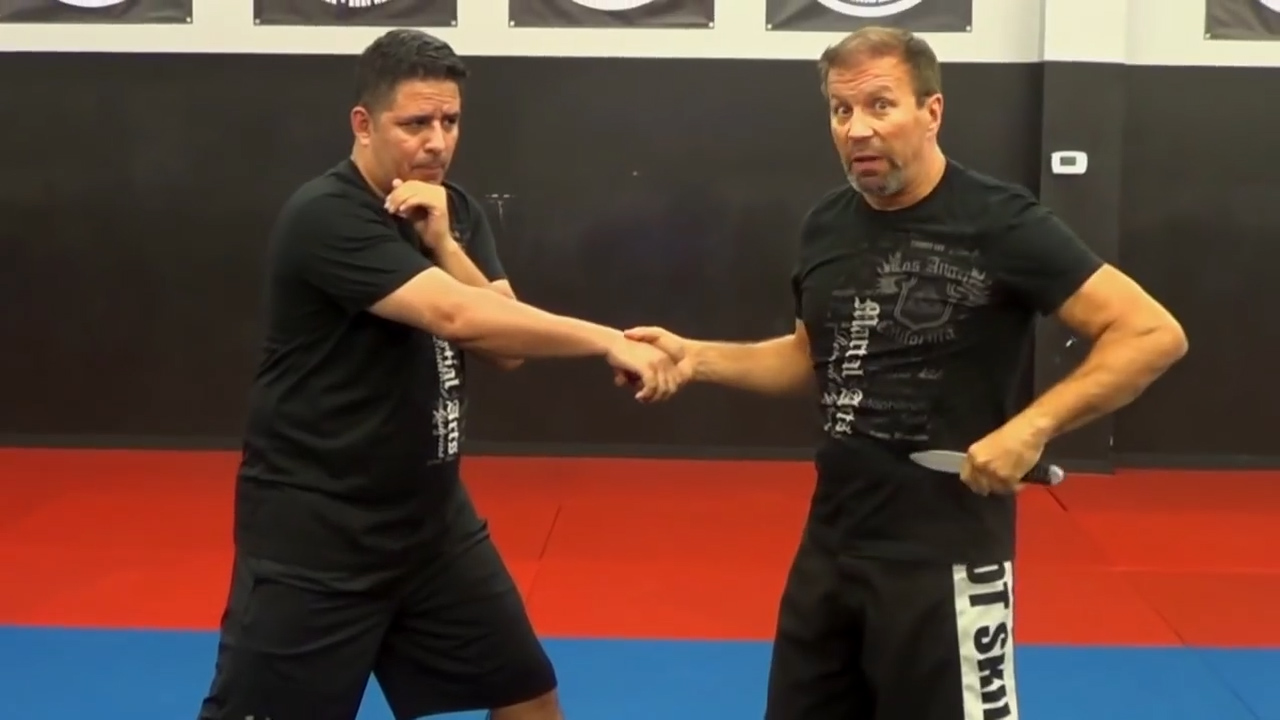knife: (901, 442, 1078, 504)
